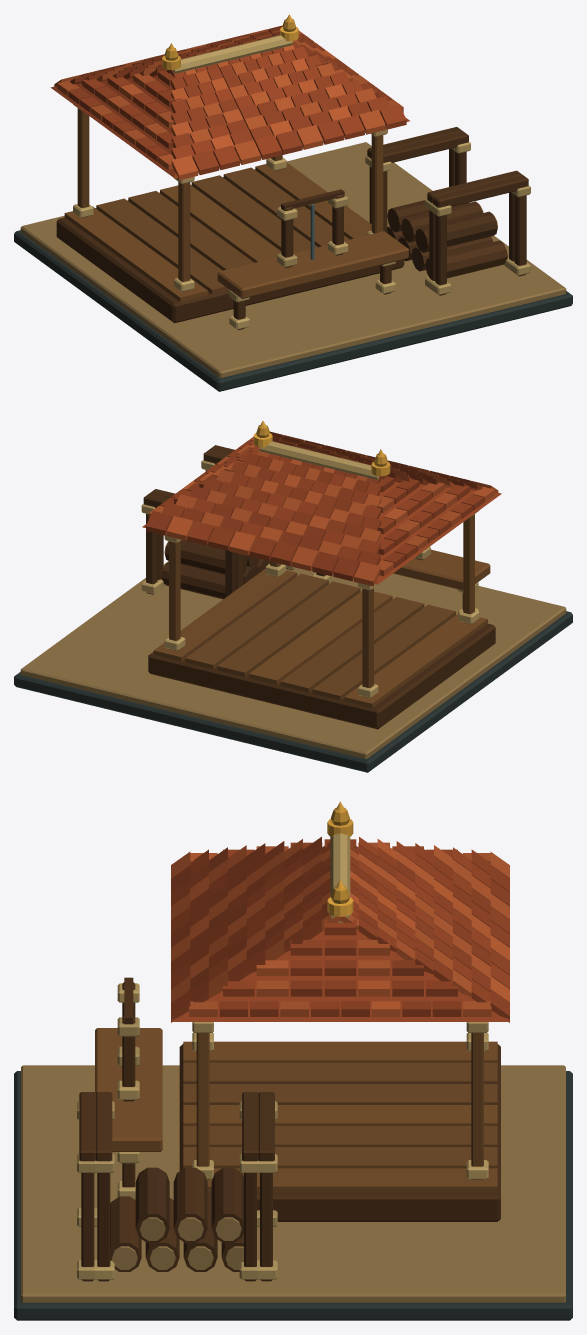
3 renders of one model, top to bottom at view 1: azimuth 30°, elevation 25°; view 2: azimuth 150°, elevation 25°; view 3: azimuth 270°, elevation 25°, orthographic. The views are drawn at different scales.
Parts seen in each view (by area): view 1: lumber_3_structure; view 2: lumber_3_structure, lumber_3_metal; view 3: lumber_3_structure, lumber_3_metal.
Part boxes in pixels (x1,y1,x2,y2): lumber_3_structure: (14, 19, 572, 391); lumber_3_structure: (14, 425, 572, 772); lumber_3_metal: (253, 420, 390, 476); lumber_3_structure: (14, 807, 572, 1320); lumber_3_metal: (327, 801, 353, 916).
Bounding box in the file's own units: 5.6 × 3.68 × 5.6.
